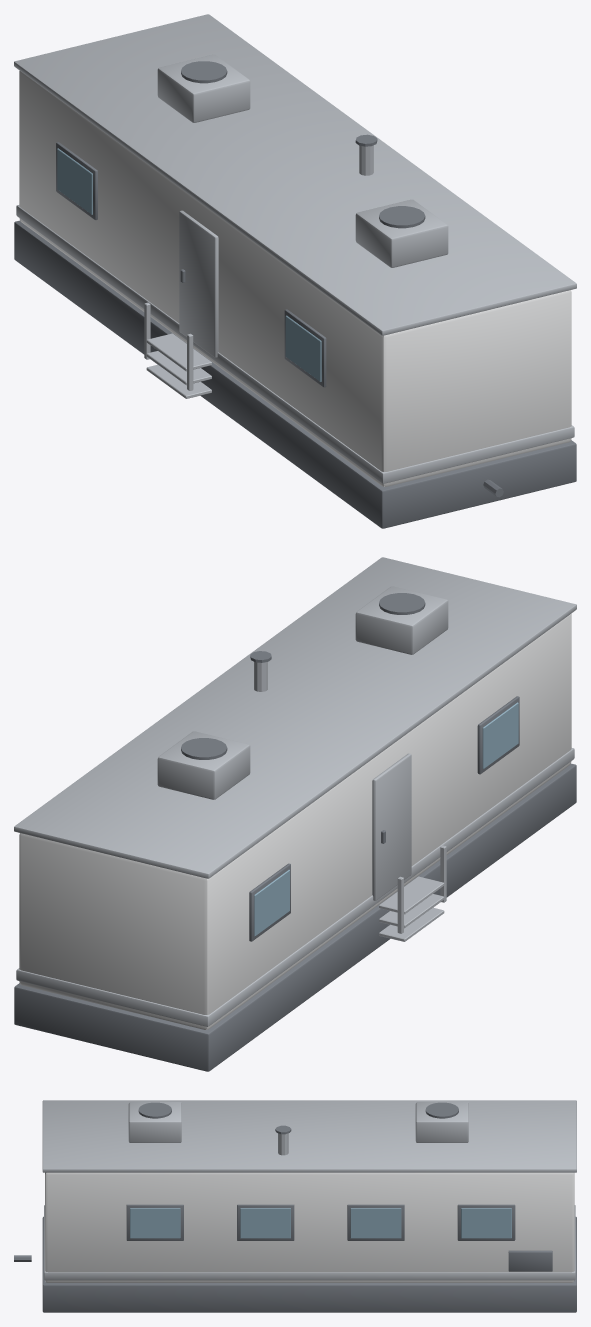
The model's file is trailer.glb.
The picture shows the model from 3 angles, top to bottom: view 1: azimuth 30°, elevation 25°; view 2: azimuth 150°, elevation 25°; view 3: azimuth 270°, elevation 25°; orthographic projection. The views are drawn at different scales.
Visible parts, largest first — view 1: trailer; view 2: trailer; view 3: trailer.
Part boxes in pixels (x1,y1,x2,y2): trailer: (14,14,576,528); trailer: (14,557,576,1071); trailer: (14,1100,576,1312).
Size of the model in its own units: 4.35 by 4.22 by 12.75.
